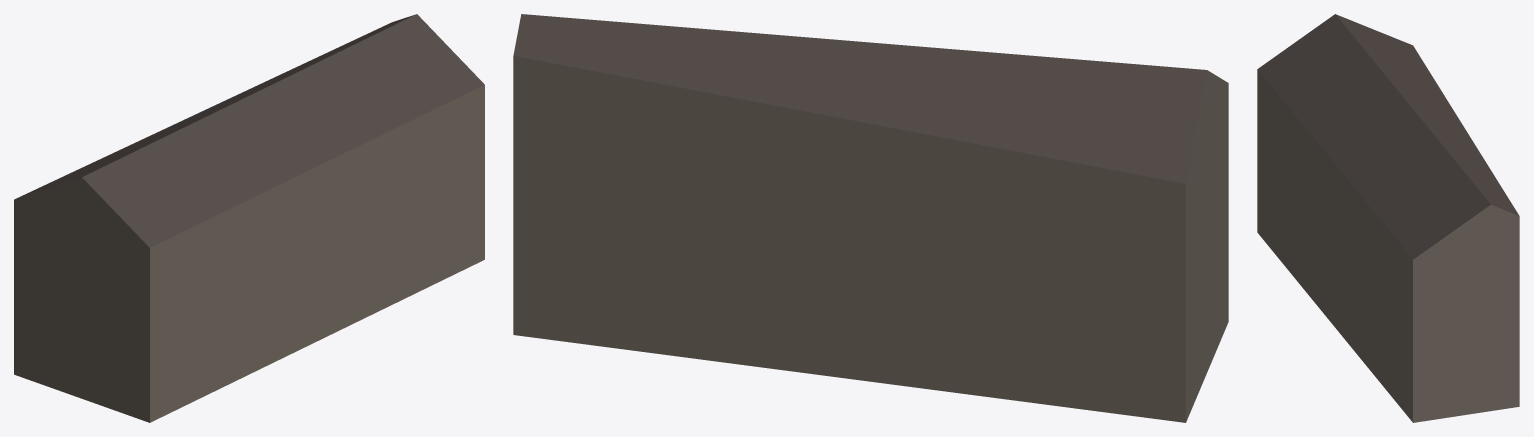
The picture shows the model from 3 angles, left to right: view 1: azimuth 30°, elevation 25°; view 2: azimuth 150°, elevation 25°; view 3: azimuth 270°, elevation 25°; orthographic projection. The views are drawn at different scales.
Parts seen in each view (by area): view 1: HP-w1198721569; view 2: HP-w1198721569; view 3: HP-w1198721569.
Boxes of the visible parts, <box> form: HP-w1198721569: <box>14,14,484,422</box>; HP-w1198721569: <box>513,14,1228,422</box>; HP-w1198721569: <box>1257,14,1519,422</box>.
Bounding box in the file's own units: 16.89 × 7.59 × 8.74.
